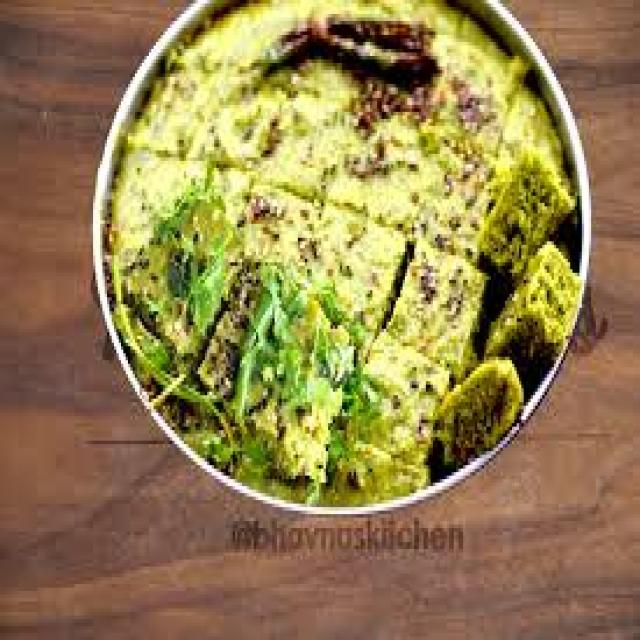DHOKLA: (196, 278, 355, 479), (477, 76, 569, 277), (106, 250, 238, 388), (310, 202, 412, 339), (488, 239, 576, 394), (384, 241, 480, 377), (350, 332, 451, 457), (242, 68, 340, 187), (133, 68, 249, 167), (111, 162, 216, 255), (415, 128, 489, 255), (440, 352, 521, 463), (242, 185, 322, 276)
